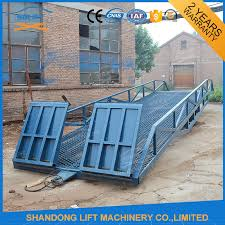Yard Ramp: (13, 79, 214, 181)
